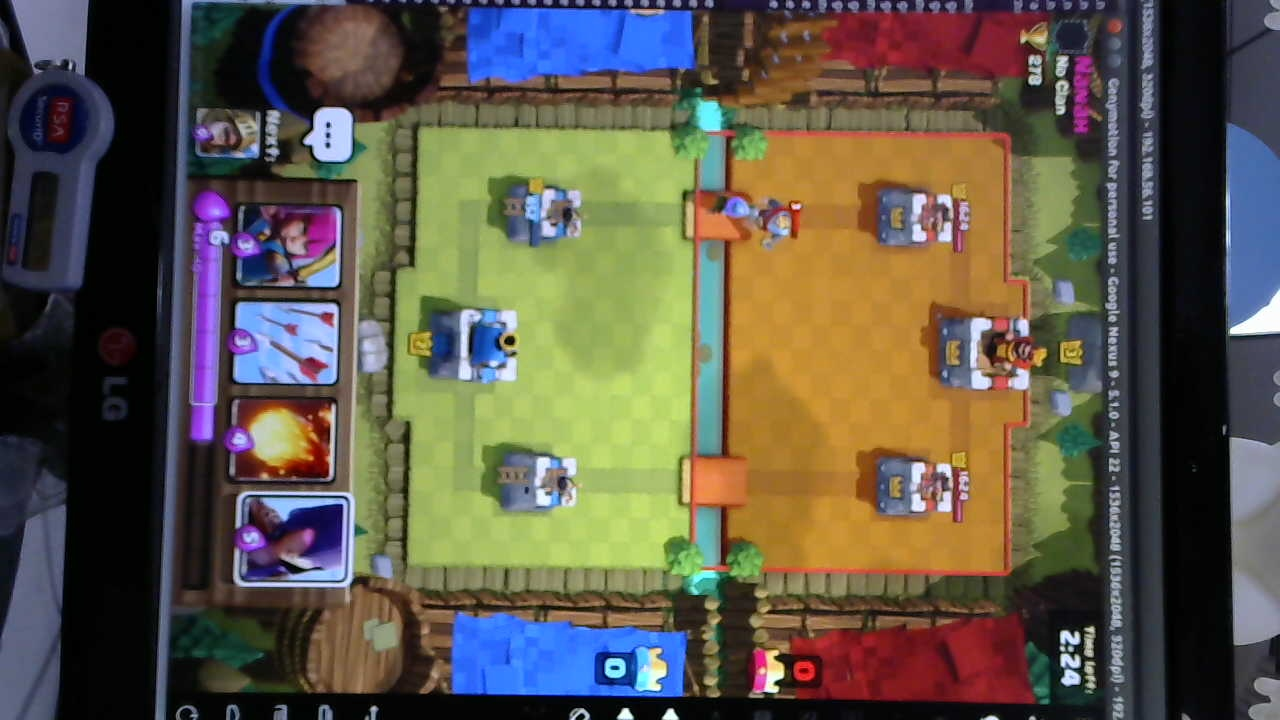arena: (495, 445, 583, 514), (510, 180, 584, 241)
earena: (869, 449, 957, 524), (873, 182, 957, 252)
eking: (936, 311, 1038, 394)
king: (434, 306, 525, 386)
knight: (753, 196, 795, 246)
musketeer: (704, 185, 759, 224)
